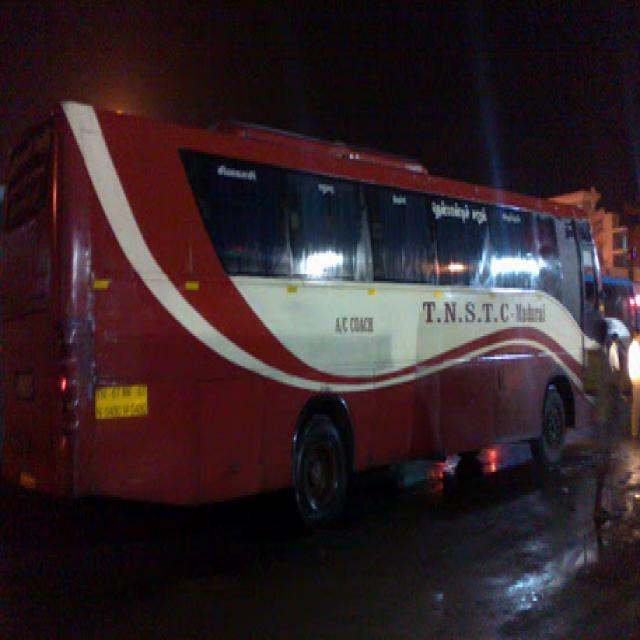bus_back: (0, 87, 613, 540)
